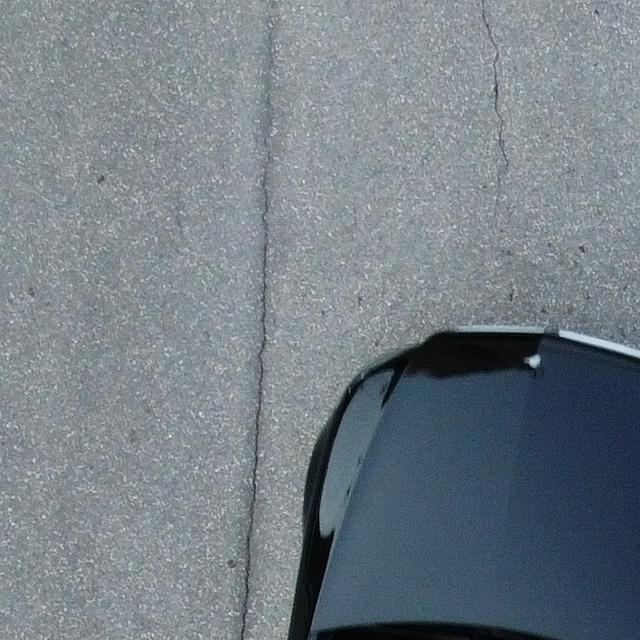LongitudinalCrack: (240, 30, 279, 640), (481, 1, 512, 174)
